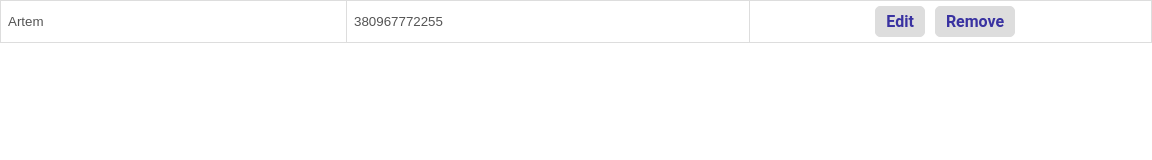
it: testing note › check edit mode
This screenshot has width=1152, height=160.
Check: the field with test id "note-field-name" is disabled, box left=6, top=6, right=187, bottom=37
Check: the number field with test id "note-field-phone" is disabled, box left=352, top=6, right=533, bottom=37
Click the button with test id "btn-edit": (900, 22) left=875, top=6, right=925, bottom=37
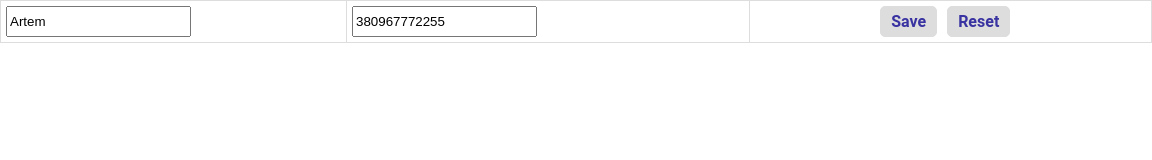
Check: the field with test id "note-field-name" is enabled, box left=6, top=6, right=191, bottom=37
Check: the number field with test id "note-field-phone" is enabled, box left=352, top=6, right=537, bottom=37
Check: the button with test id "btn-reset" is shown, box left=947, top=6, right=1010, bottom=37
